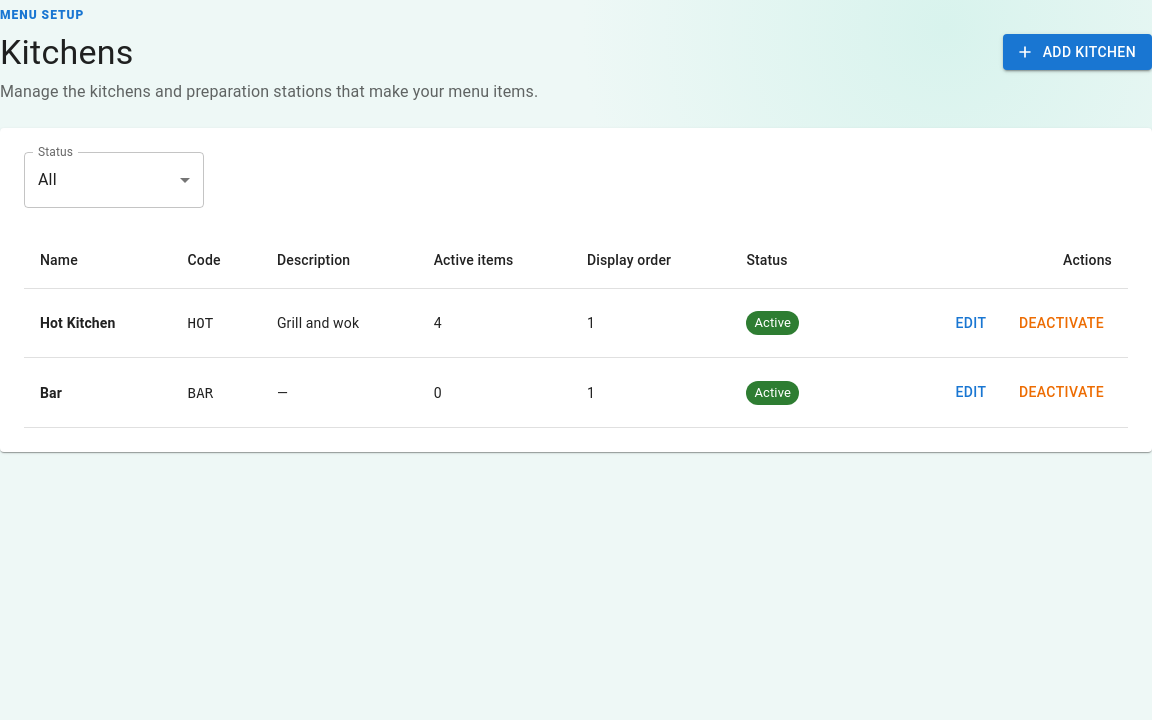
Test: Kitchen management › warns before deactivating a kitchen that still has active items and shows the server conflict
Click the button with aria-label "Deactivate Hot Kitchen": x=1061, y=323 [1011,305,1112,341]
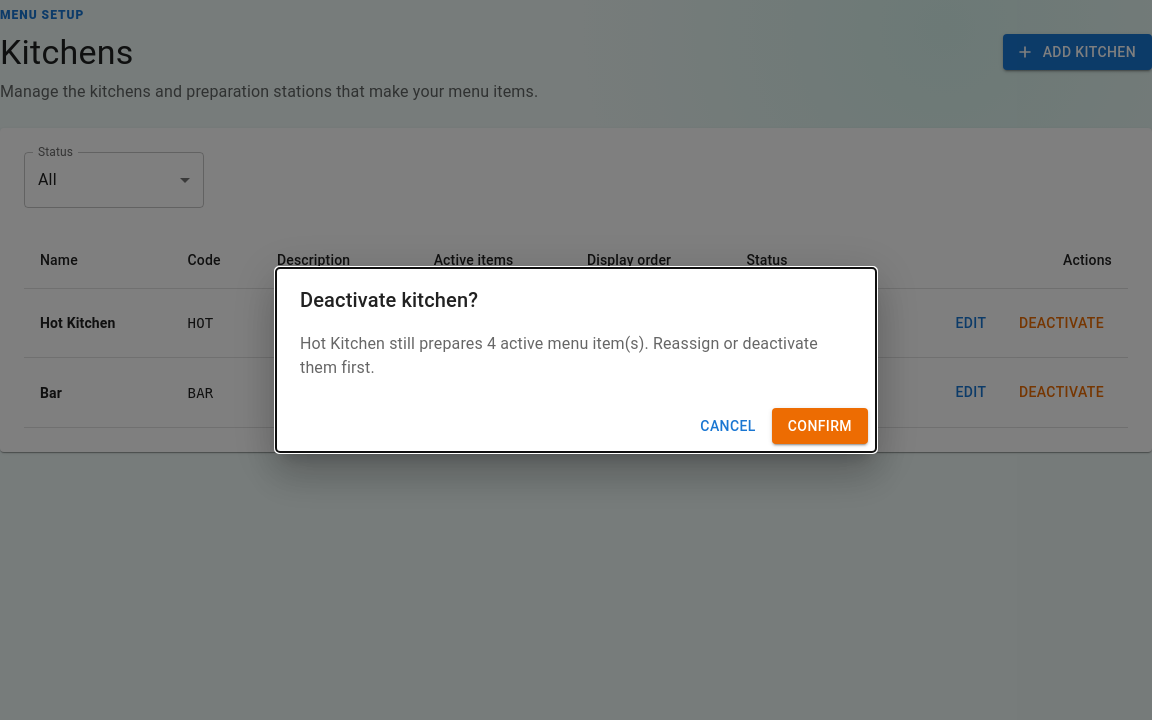
Expected: the text "still prepares 4 active menu item" is shown, [300,334,818,377]
Click the button "Confirm": x=820, y=426 [772,408,868,444]
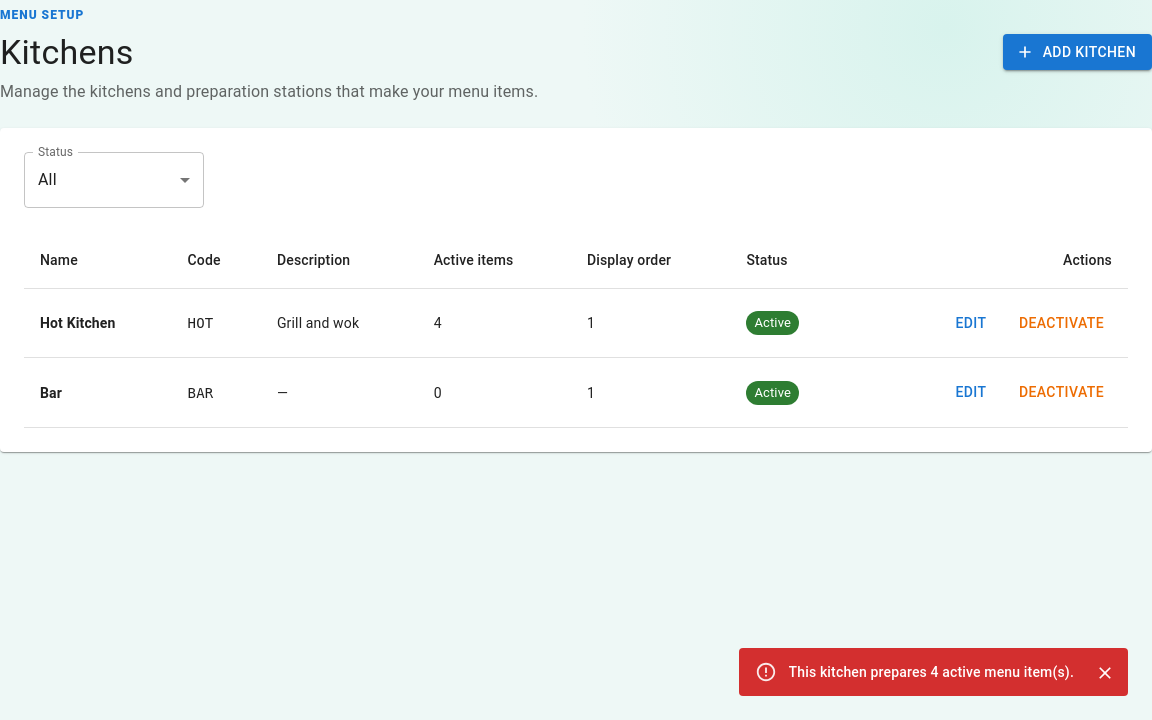
Expected: the text "This kitchen prepares 4 active menu item(s)." is shown, [789,664,1074,680]
